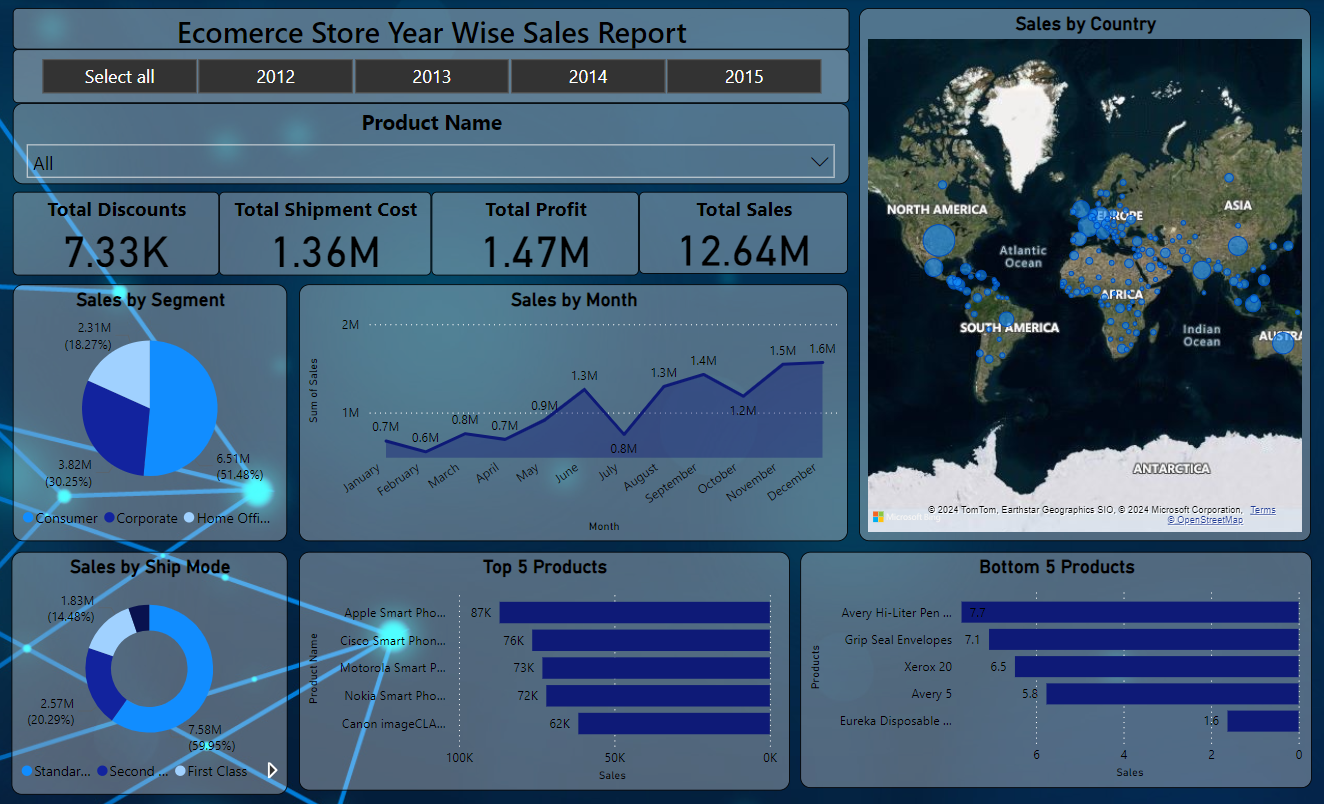

This screenshot's page, from the dashboard's own definition file:
{"tool":"powerbi","page":{"name":"Page 1","canvas":[1280,780],"ordinal":0},"visuals":[{"type":"slicer","title":"Year","fields":{"Values":["Orders.Order Date.Variation.Date Hierarchy.Year"]},"box":[13.7,49.4,806.9,52.1],"z":0},{"type":"card","title":"Total Discounts","fields":{"Values":["Sum(Orders.Discount)"]},"box":[13.7,185.2,199,82.3],"z":1000},{"type":"areaChart","title":"Sales by Month","fields":{"Category":["Orders.Order Date.Variation.Date Hierarchy.Month"],"Y":["Sum(Orders.Sales)"]},"box":[289.5,275.8,529.7,248.4],"z":2000},{"type":"card","title":"Total Profit","fields":{"Values":["Sum(Orders.Profit)"]},"box":[417.2,186.6,200.3,81],"z":3000},{"type":"card","title":"Total Shipment Cost","fields":{"Values":["Sum(Orders.Shipping Cost)"]},"box":[212.7,186.6,204.5,81],"z":5000},{"type":"pieChart","title":"Sales by Segment","fields":{"Category":["Orders.Segment"],"Y":["Sum(Orders.Sales)"]},"box":[13.7,275.8,264.8,248.4],"z":6000},{"type":"donutChart","title":"Sales by Ship Mode","fields":{"Y":["Sum(Orders.Sales)"],"Category":["Orders.Ship Mode"]},"box":[12.3,533.8,266.2,234.6],"z":7000},{"type":"card","title":"Total Sales","fields":{"Values":["Sum(Orders.Sales)"]},"box":[617.5,185.2,201.7,81],"z":8000},{"type":"slicer","title":"Product Name","fields":{"Values":["Orders.Product Name"]},"box":[13.7,101.5,806.9,78.2],"z":9000},{"type":"textbox","title":"Ecomerce Store Year Wise Sales Report","box":[13.7,9.6,806.9,39.8],"z":11000},{"type":"map","title":"Sales by Country","fields":{"Category":["Orders.Country"],"Size":["Sum(Orders.Sales)"]},"box":[830.2,9.6,436.4,514.6],"z":12000},{"type":"barChart","title":"Top 5 Products","fields":{"Category":["Orders.Product Name"],"Y":["Sum(Orders.Sales)"]},"box":[289.5,533.8,473.4,230.5],"z":13000},{"type":"barChart","title":"Bottom 5 Products","fields":{"Category":["Orders.Product Name"],"Y":["Sum(Orders.Sales)"]},"box":[772.6,533.8,494,227.8],"z":14000}]}

Visuals, with their boxes in screenshot pixels (x1, y1, x2, y2), scaled from the page's 1280x780 canvas onto the 1324x804 screenshot:
"Year" slicer: left=14, top=51, right=849, bottom=105
"Total Discounts" card: left=14, top=191, right=220, bottom=276
"Sales by Month" areaChart: left=299, top=284, right=847, bottom=540
"Total Profit" card: left=432, top=192, right=639, bottom=276
"Total Shipment Cost" card: left=220, top=192, right=432, bottom=276
"Sales by Segment" pieChart: left=14, top=284, right=288, bottom=540
"Sales by Ship Mode" donutChart: left=13, top=550, right=288, bottom=792
"Total Sales" card: left=639, top=191, right=847, bottom=274
"Product Name" slicer: left=14, top=105, right=849, bottom=185
"Ecomerce Store Year Wise Sales Report" textbox: left=14, top=10, right=849, bottom=51
"Sales by Country" map: left=859, top=10, right=1310, bottom=540
"Top 5 Products" barChart: left=299, top=550, right=789, bottom=788
"Bottom 5 Products" barChart: left=799, top=550, right=1310, bottom=785
